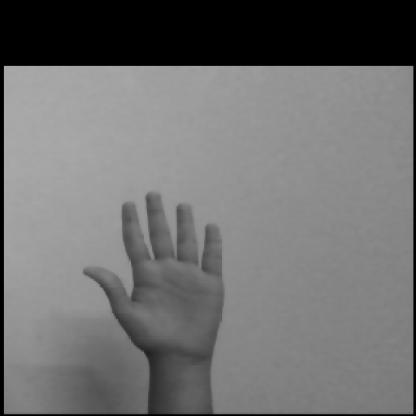palm: (74, 186, 252, 376)
